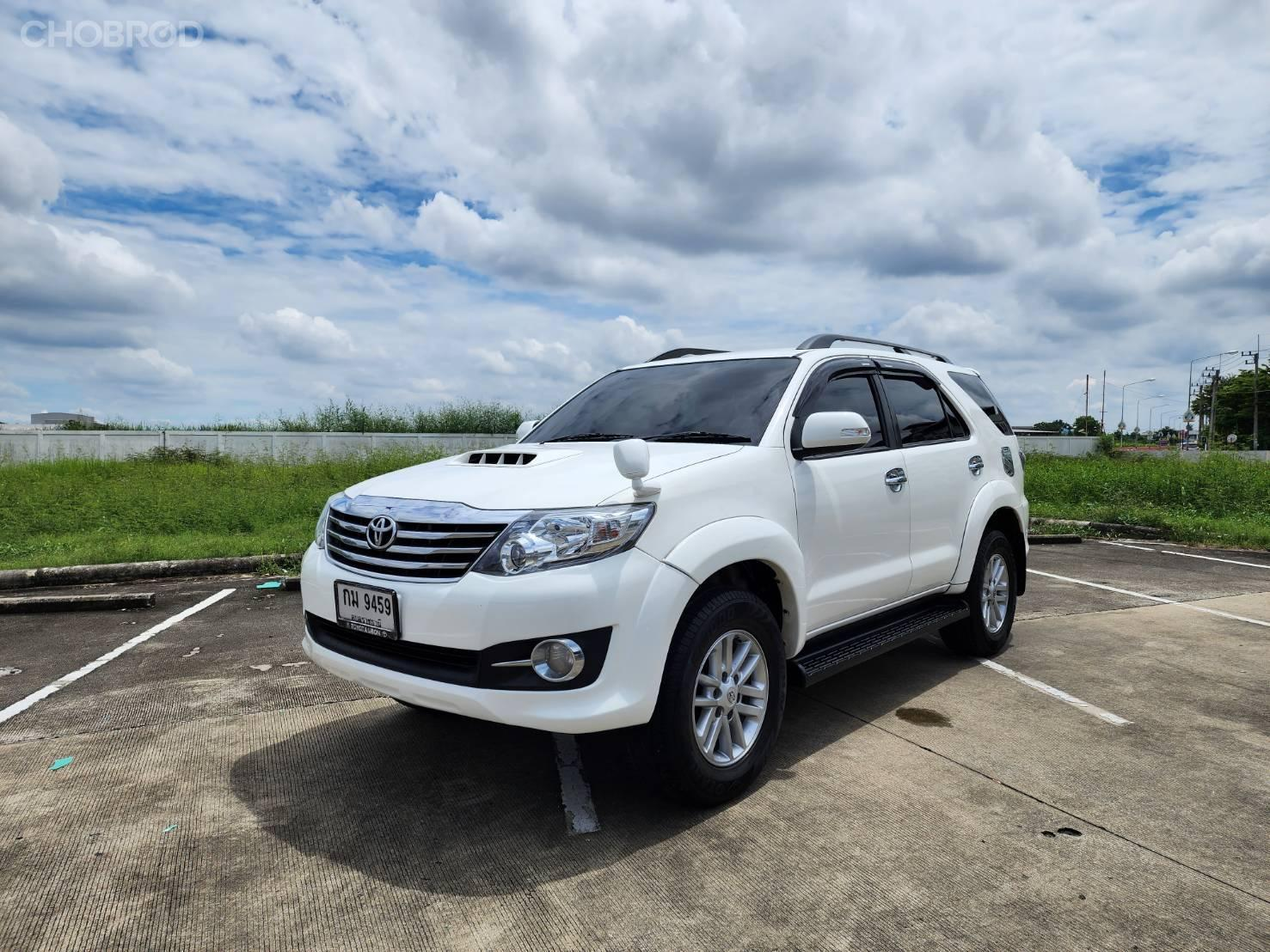license-plate: (333, 574, 404, 644)
